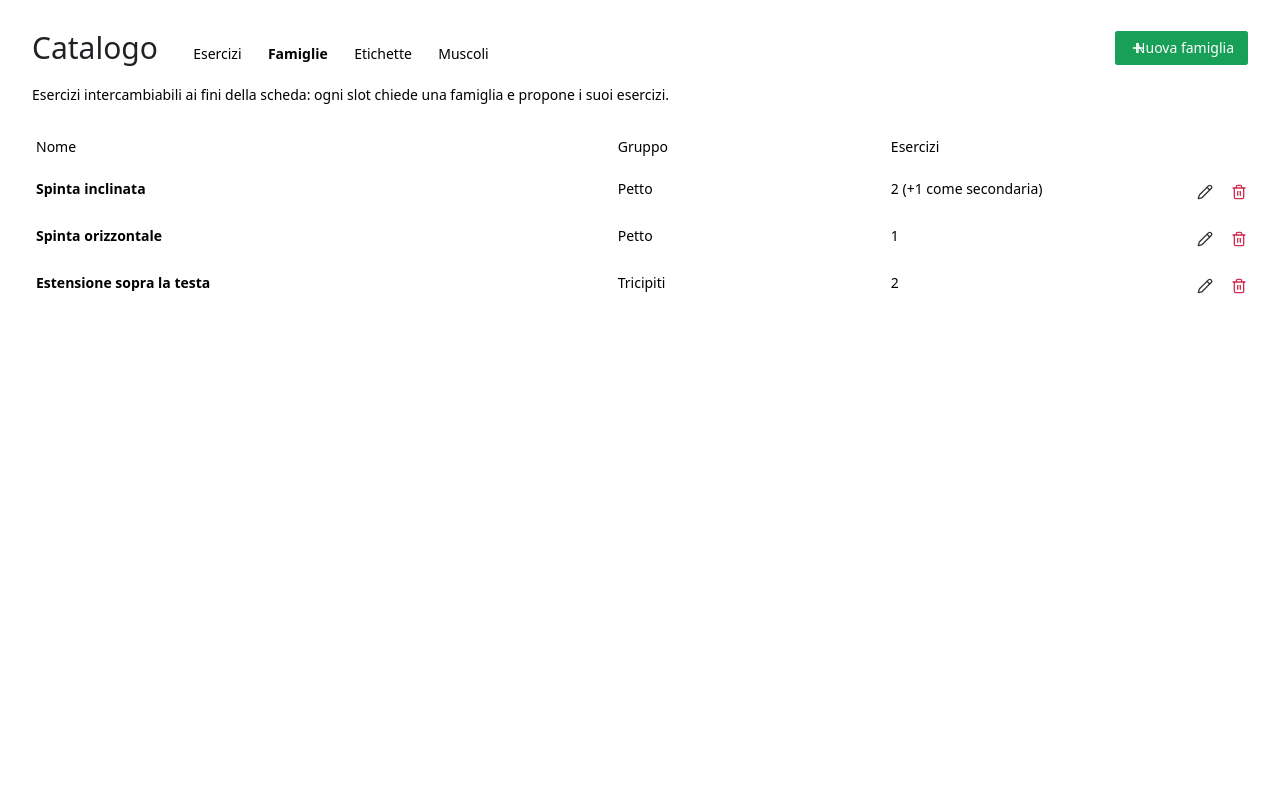
Scenario: FamiliesPage (US-06) › una famiglia usata non si elimina e il messaggio dice da cosa (CA2)
Click the 1st button with test id "family-delete". click: [1230, 192]
box: left=1216, top=178, right=1244, bottom=206
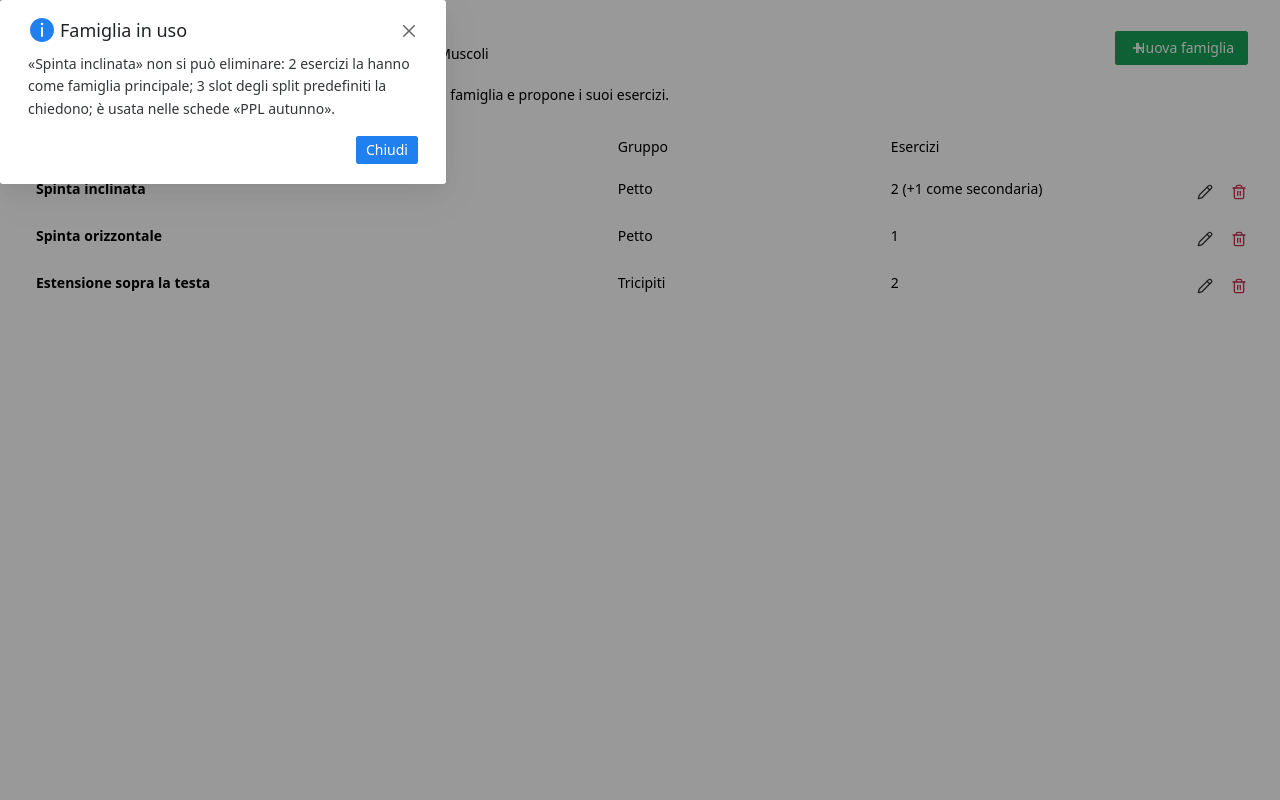
Expected: the dialog with class "n-dialog" shows "2 esercizi la hanno come famiglia principale", left=28, top=54, right=410, bottom=118
Expected: the dialog with class "n-dialog" shows "3 slot degli split predefiniti la chiedono", left=28, top=54, right=410, bottom=118
Expected: the dialog with class "n-dialog" shows "«PPL autunno»", left=28, top=54, right=410, bottom=118
